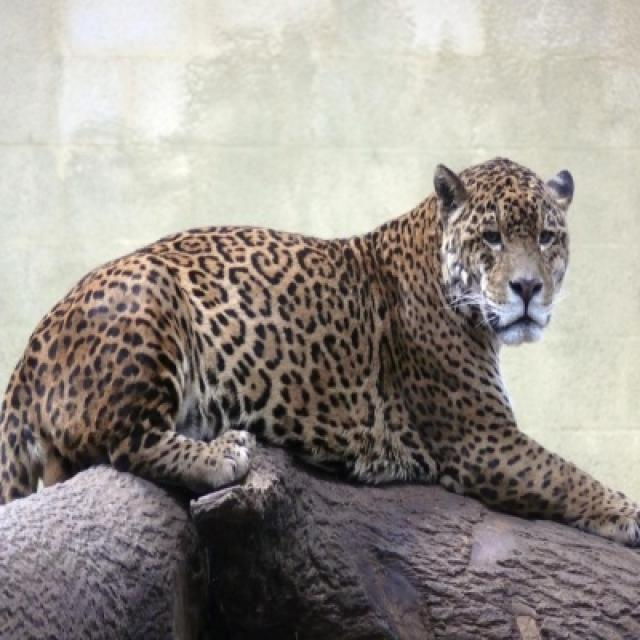Jaguar: (0, 157, 638, 550)
